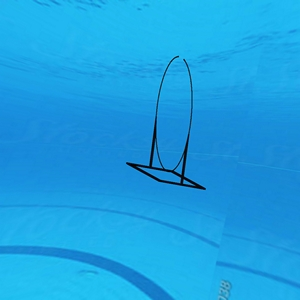circle: (126, 54, 212, 195)
